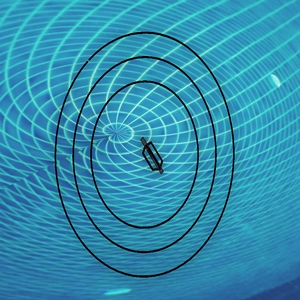circle: (51, 17, 238, 290)
submarine: (140, 141, 165, 173)
